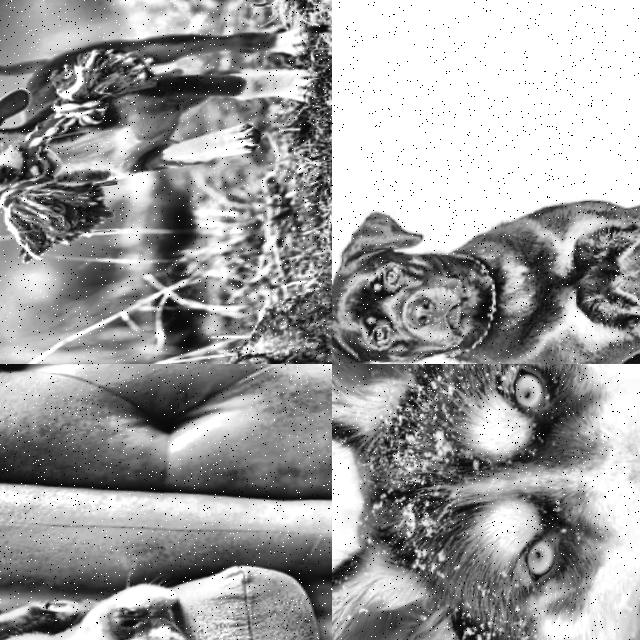beagle: (0, 76, 118, 233)
bulldog: (0, 545, 227, 640)
husky: (332, 364, 640, 640)
rottweiler: (332, 186, 530, 364)
